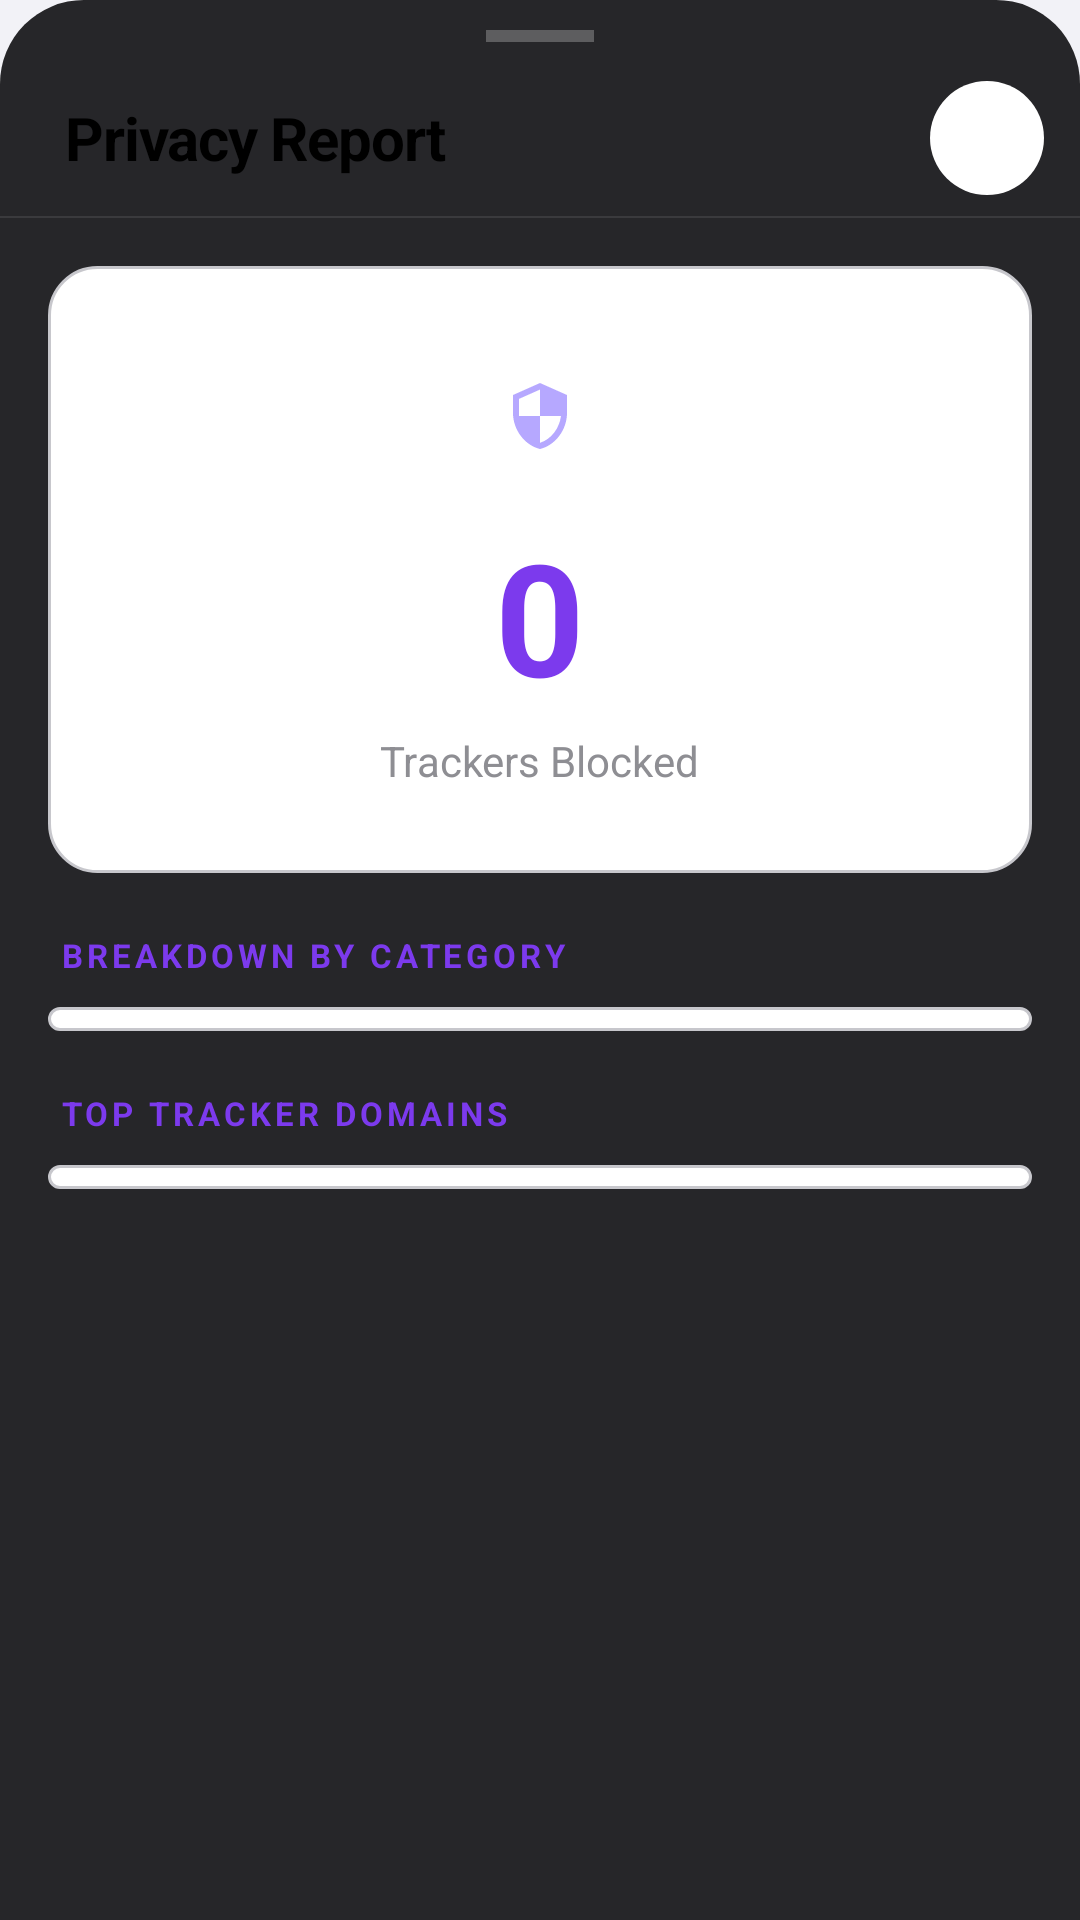

Screen size 1080 × 1920. Icon name, then its center in pixels as (x,y):
shield: (540,416)
